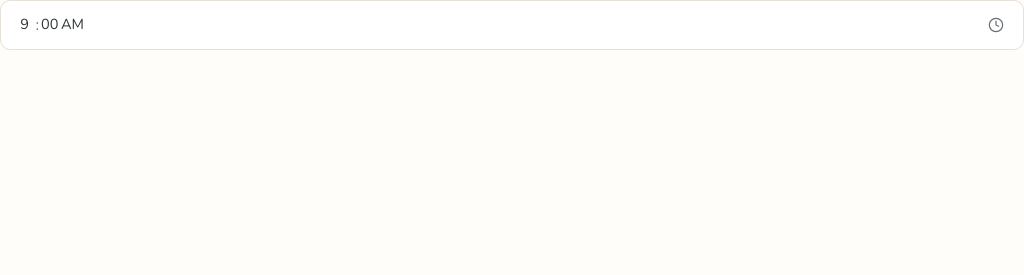
Scenario: TimePicker — dropdown › Enter while focus is on the Hour wheel (not a segment) closes the popover
Click the button named "open start picker": (996, 25) [984,13,1008,37]
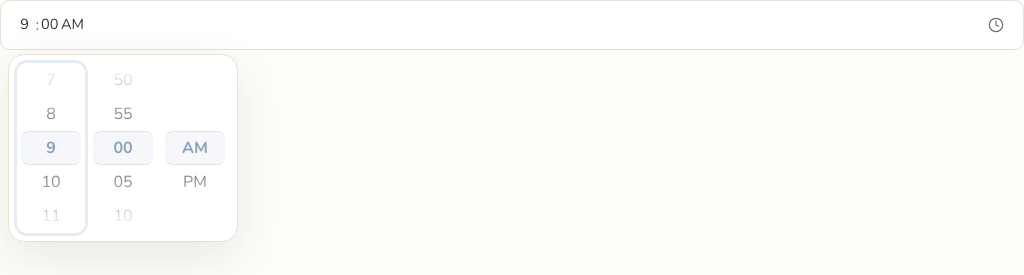
Press Enter
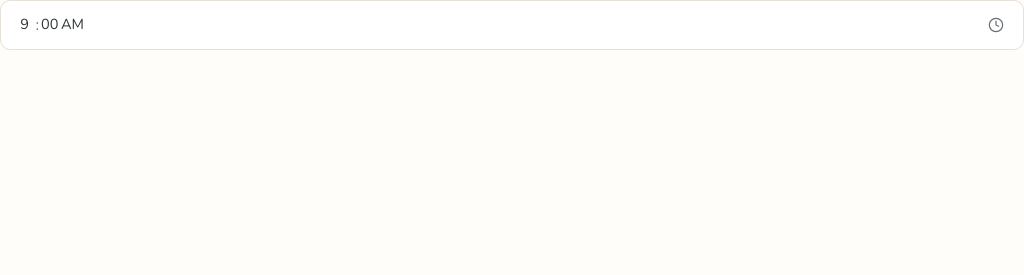
Check: the list "Hour" is gone
